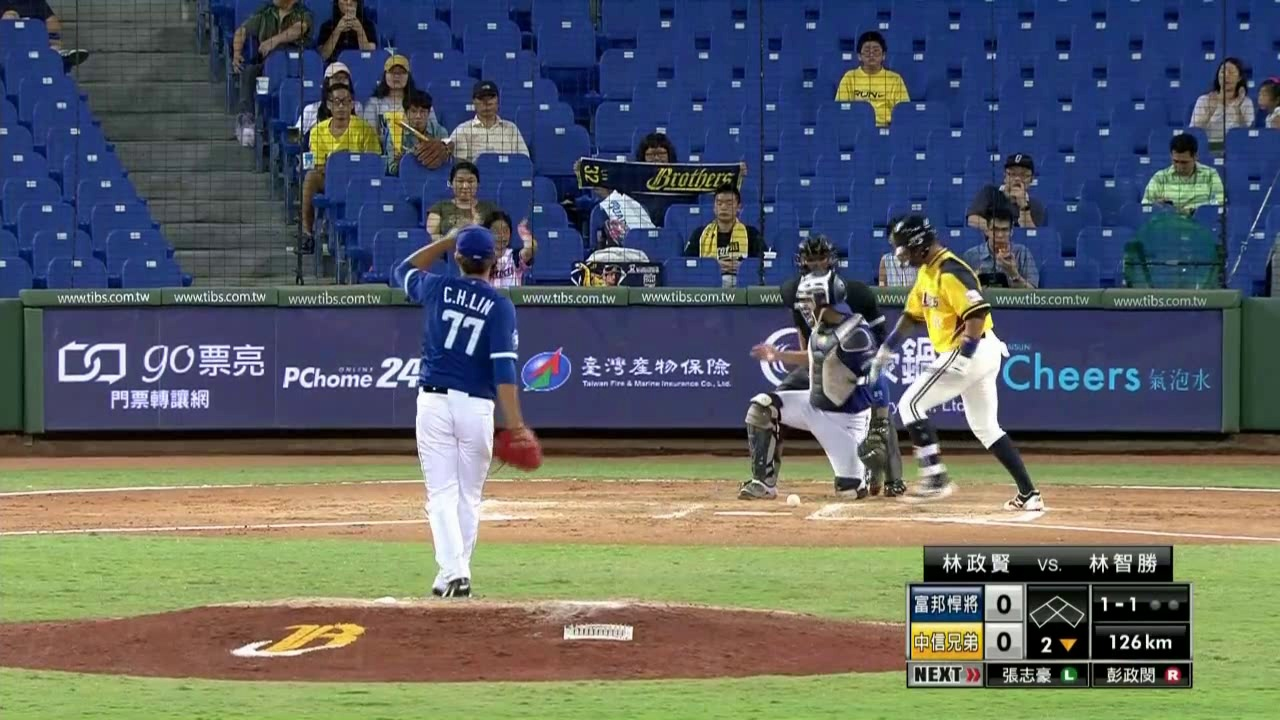ball: (784, 490, 804, 508)
base: (1029, 594, 1086, 630)
bat: (866, 355, 967, 378)
out: (1144, 587, 1186, 618)
score1: (987, 588, 1020, 618)
score2: (986, 624, 1023, 660)
session: (1030, 633, 1083, 658)
speed: (1097, 628, 1186, 654)
strikeball: (1093, 588, 1142, 619)
